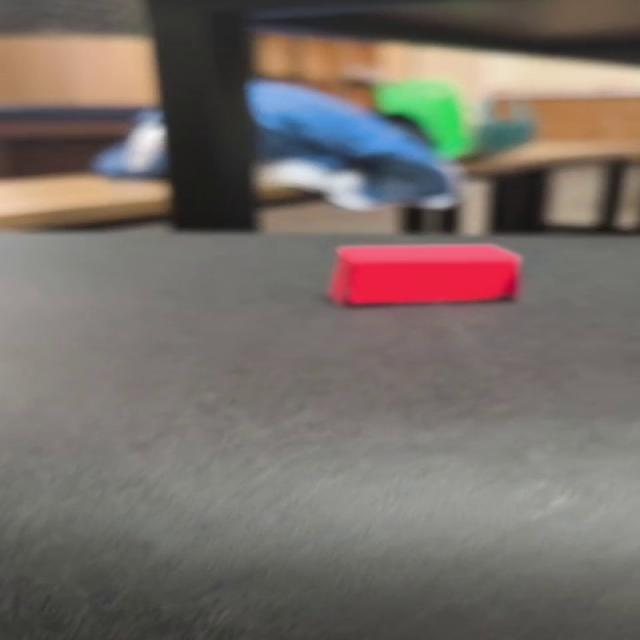red block: (327, 242, 521, 306)
